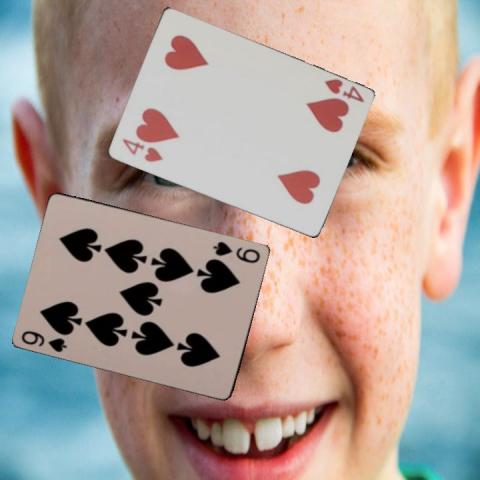4h: (119, 135, 164, 164), (321, 76, 366, 104)
9s: (210, 238, 262, 265), (19, 328, 69, 354)
